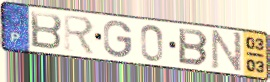0: (139, 23, 165, 63)
B: (29, 10, 64, 52), (177, 26, 211, 68)
G: (102, 20, 134, 59)
N: (210, 29, 244, 75)
R: (62, 13, 98, 57)
